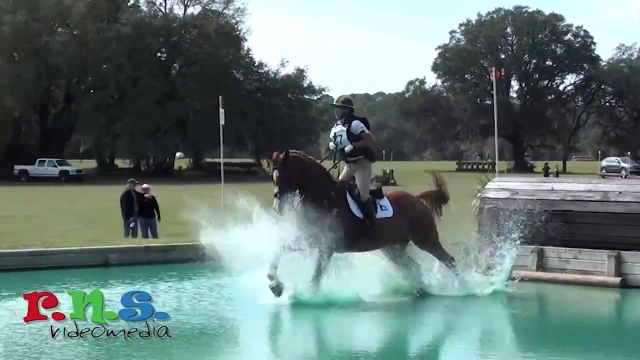person: (274, 146, 470, 279), (324, 90, 381, 214), (133, 177, 162, 242)
